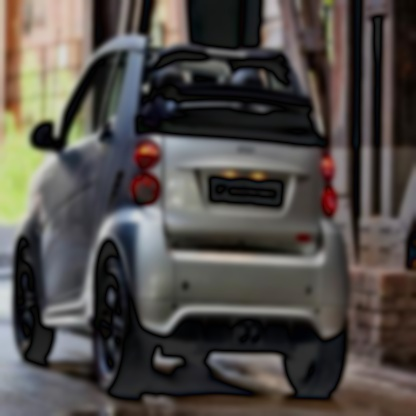Vehicle: (10, 23, 354, 404)
